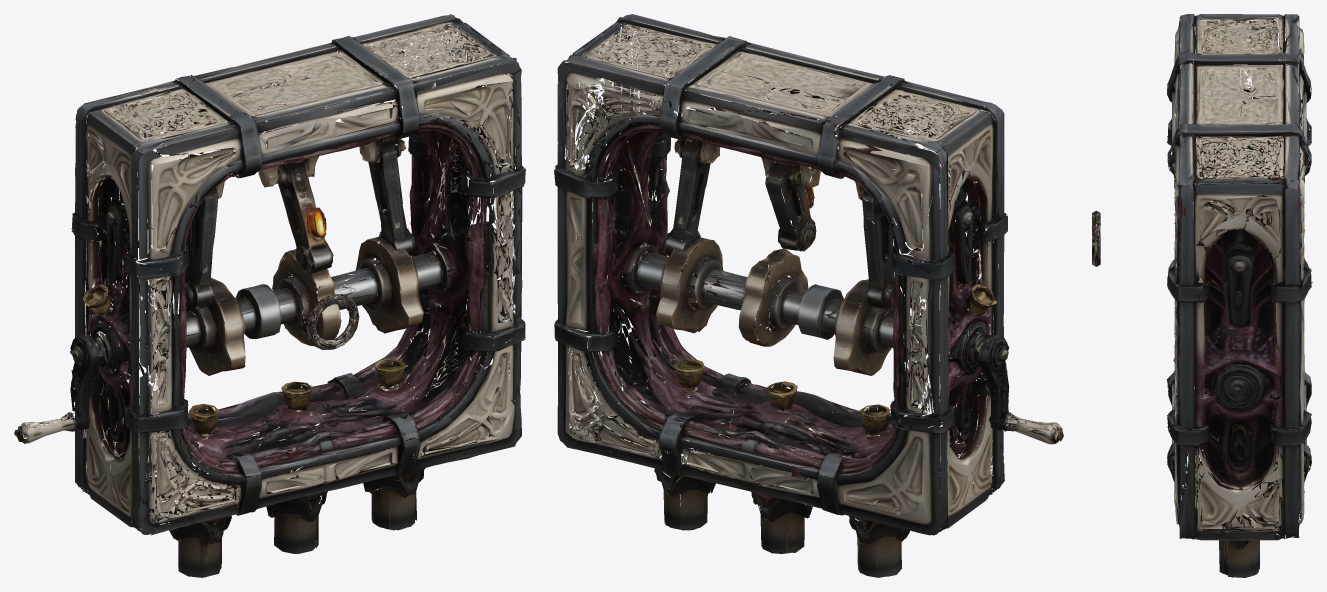
Rendered from hazard_controller_relief_logic_cam.glb.
3 renders of one model, left to right at view 1: azimuth 30°, elevation 25°; view 2: azimuth 150°, elevation 25°; view 3: azimuth 270°, elevation 25°, orthographic. The views are drawn at different scales.
Visible parts, largest first — view 1: node_0, HB_ROTOR_00; view 2: node_0; view 3: node_0, HB_ROTOR_00.
Part boxes in pixels (x1=…): node_0: x1=14, y1=14, x2=525, y2=577; HB_ROTOR_00: x1=306, y1=294, x2=359, y2=349; node_0: x1=554, y1=14, x2=1063, y2=577; node_0: x1=1166, y1=14, x2=1312, y2=577; HB_ROTOR_00: x1=1092, y1=210, x2=1100, y2=266.
Size of the model in its own units: 0.8908 by 0.8331 by 0.3852.
1 material, 1 textured.
